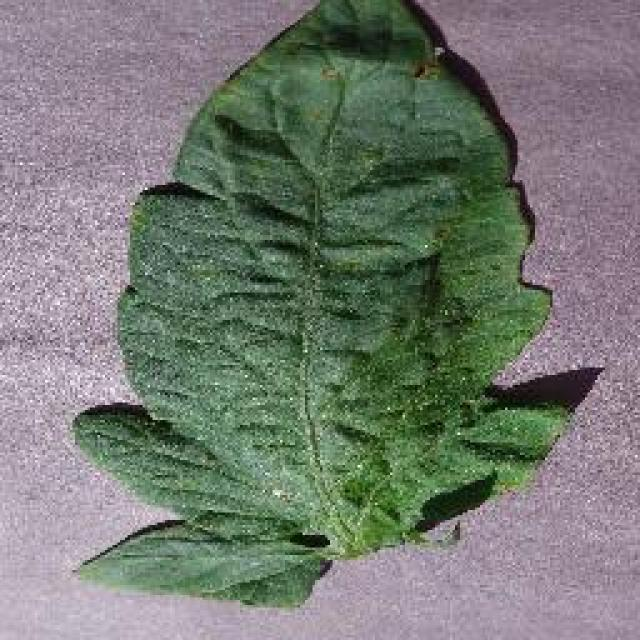Tomato___Target_Spot: (72, 0, 570, 605)
